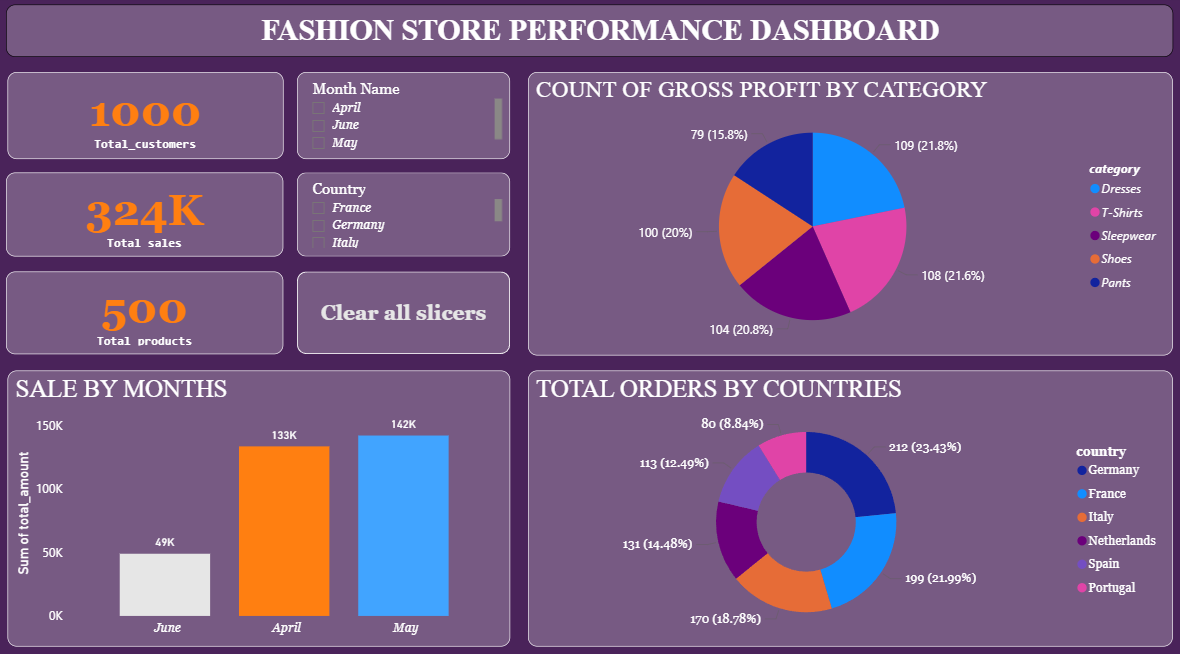

This screenshot's page, from the dashboard's own definition file:
{"tool":"powerbi","page":{"name":"Page 1","canvas":[1280,720],"ordinal":0},"visuals":[{"type":"textbox","box":[9.7,11.3,1259.8,56.7],"z":0},{"type":"card","fields":{"Values":["fashion_store_customers.Total_customers"]},"box":[11.3,84.2,297.9,93.9],"z":1000},{"type":"card","fields":{"Values":["fashion_store_products.Total_products"]},"box":[9.7,299.6,299.6,89.1],"z":2000},{"type":"card","fields":{"Values":["fashion_store_sales_items.Total_revenue"]},"box":[9.7,192.7,299.6,90.7],"z":3000},{"type":"columnChart","title":"SALE BY MONTHS ","fields":{"Category":["fashion_store_sales.Month Name"],"Y":["Sum(fashion_store_sales.total_amount)"]},"box":[11.3,406.4,542.4,297.9],"z":4000},{"type":"pieChart","title":"COUNT OF GROSS PROFIT BY CATEGORY","fields":{"Category":["fashion_store_products.category"],"Y":["CountNonNull(fashion_store_products.gross_profit)"]},"box":[573.2,84.2,696.3,306],"z":4001},{"type":"slicer","fields":{"Values":["fashion_store_sales.Month Name"]},"box":[323.8,84.2,229.9,93.9],"z":4002},{"type":"donutChart","title":"TOTAL ORDERS BY COUNTRIES","fields":{"Category":["fashion_store_sales.country"],"Y":["CountNonNull(fashion_store_sales.customer_id)"]},"box":[573.2,406.4,696.3,297.9],"z":4003},{"type":"actionButton","box":[323.8,299.6,229.9,89.1],"z":4004},{"type":"slicer","fields":{"Values":["fashion_store_customers.country"]},"box":[323.8,192.7,229.9,90.7],"z":4005}]}

Visuals, with their boxes in screenshot pixels (x1, y1, x2, y2), scaled from the page's 1280x720 canvas onto the 1180x654 screenshot:
textbox: 9 10 1170 62
card - fashion_store_customers.Total_customers: 10 76 285 162
card - fashion_store_products.Total_products: 9 272 285 353
card - fashion_store_sales_items.Total_revenue: 9 175 285 257
"SALE BY MONTHS " columnChart: 10 369 510 640
"COUNT OF GROSS PROFIT BY CATEGORY" pieChart: 528 76 1170 354
slicer - fashion_store_sales.Month Name: 299 76 510 162
"TOTAL ORDERS BY COUNTRIES" donutChart: 528 369 1170 640
actionButton: 299 272 510 353
slicer - fashion_store_customers.country: 299 175 510 257
